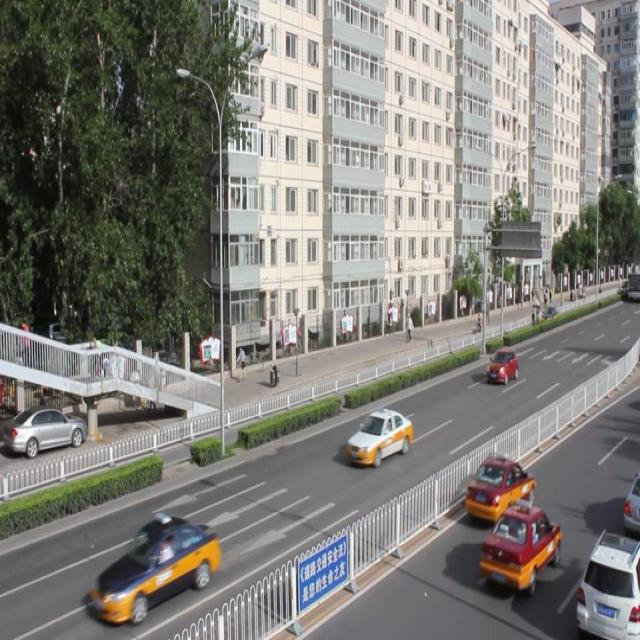car: (90, 516, 219, 623), (476, 501, 558, 589), (577, 527, 640, 640), (463, 454, 534, 524), (346, 408, 412, 466), (485, 347, 517, 384)
